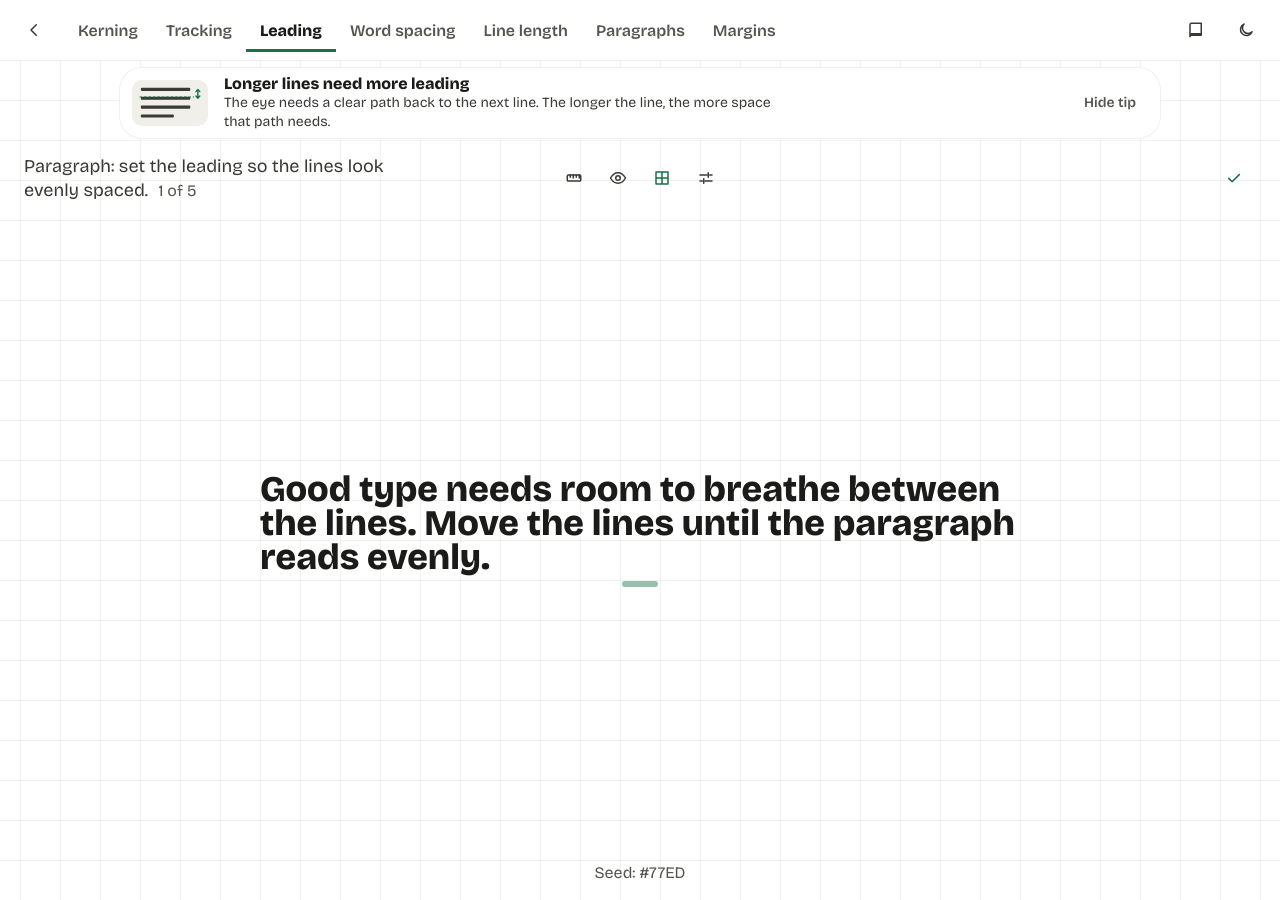
Test case: Design Playground › shows a score and notes after lock in, then moves to the next exercise
Expected: the text "1 of 5" is shown, 158,181 -> 196,200
Expected: the text "/100" is not shown
Click the button named "Lock in answer" at (1234, 178), box 1212,156 -> 1256,200
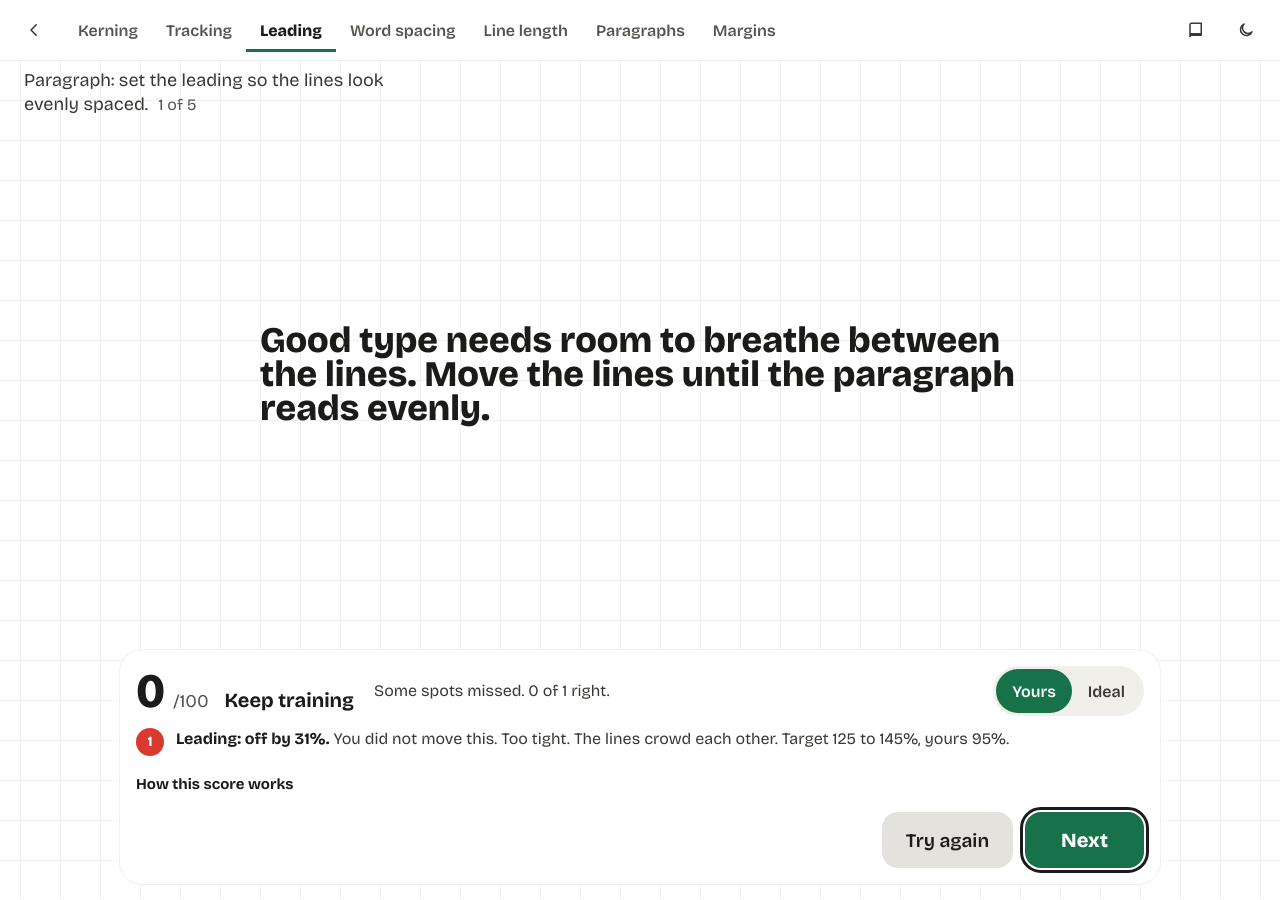
Expected: the text "/100" is shown, 173,688 -> 208,715
Expected: the text "You did not move this" is shown, 333,729 -> 1009,748
Press ArrowRight in the slider named "Leading", box 260,324 -> 1020,426
Click the button "Next" at (1085, 840), box 1025,812 -> 1144,868
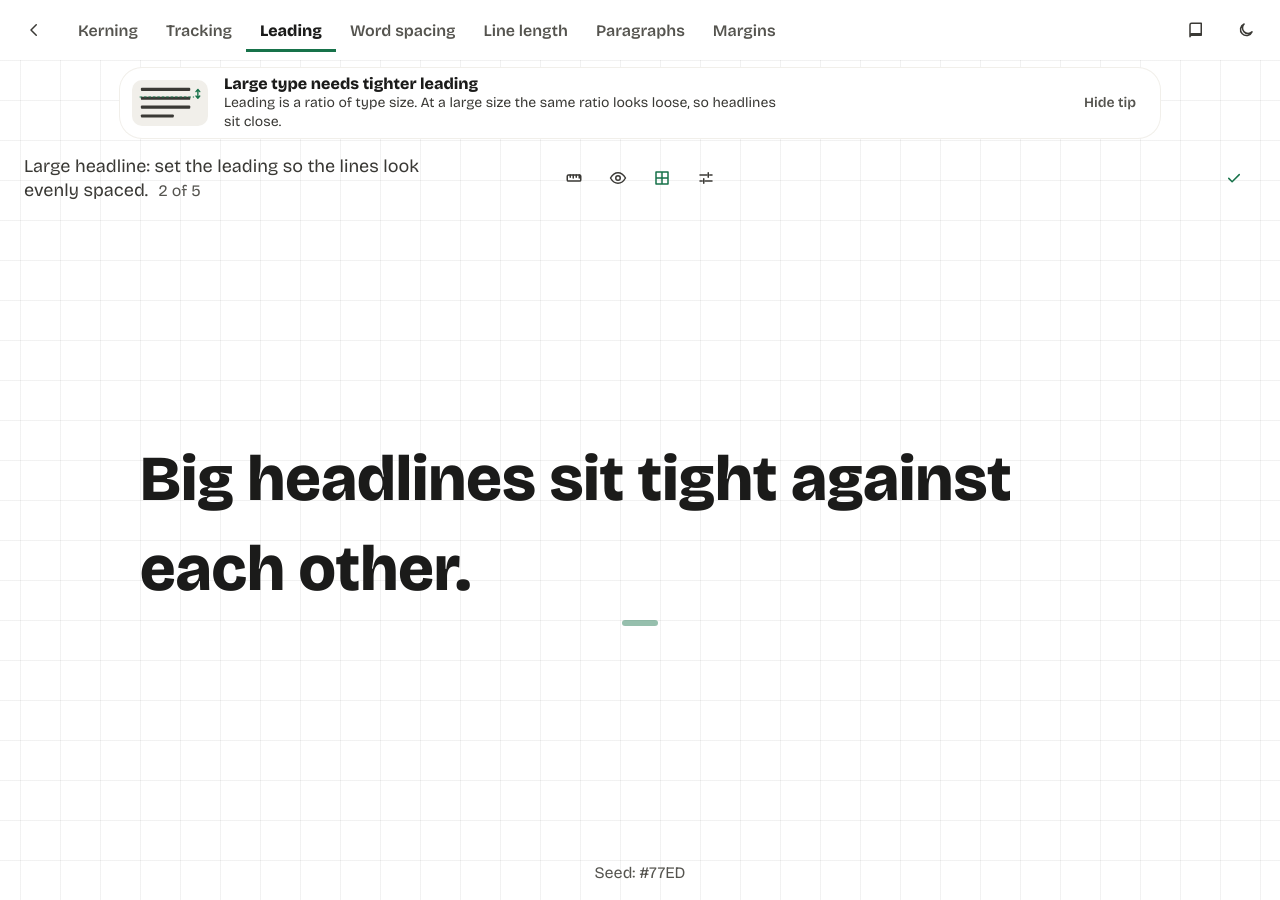
Expected: the text "2 of 5" is shown, 158,181 -> 201,200
Expected: the text "/100" is gone
